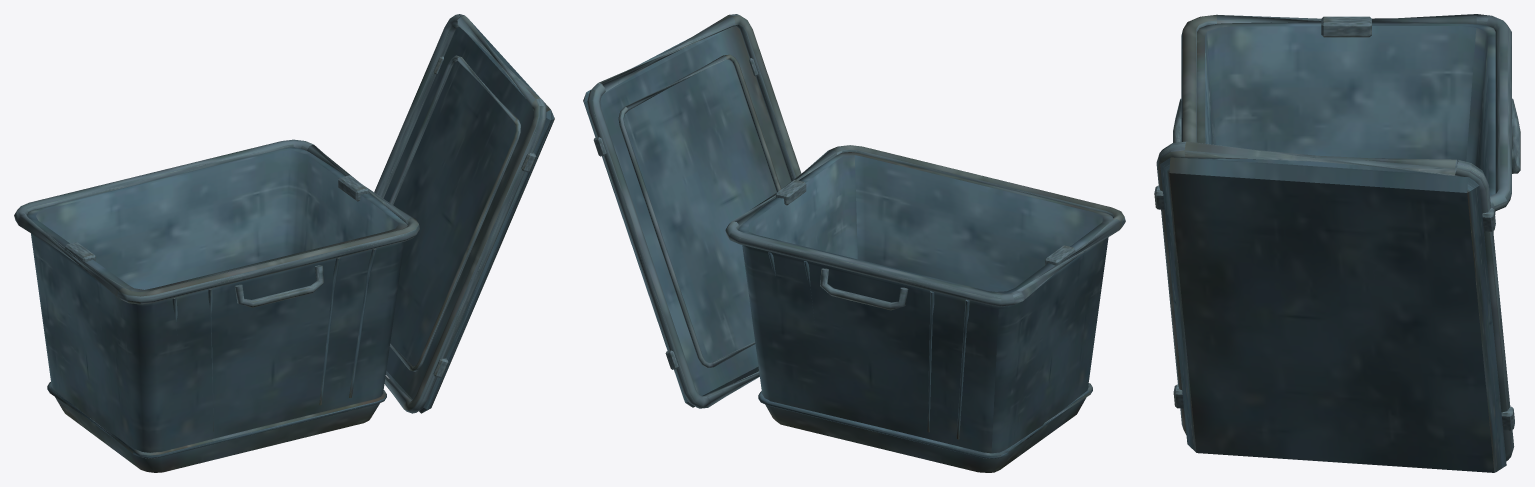
File: nb_tote.glb
3 views of the same model, side by side, from view 1: azimuth 30°, elevation 25°; view 2: azimuth 150°, elevation 25°; view 3: azimuth 270°, elevation 25° (orthographic). The views are drawn at different scales.
Parts seen in each view (by area): view 1: Abandoned_Faded_Blue_Tote_Body, Abandoned_Faded_Blue_Tote_Detached_Lid; view 2: Abandoned_Faded_Blue_Tote_Body, Abandoned_Faded_Blue_Tote_Detached_Lid; view 3: Abandoned_Faded_Blue_Tote_Detached_Lid, Abandoned_Faded_Blue_Tote_Body.
Boxes of the visible parts, <box> form: Abandoned_Faded_Blue_Tote_Body: <box>14,139,419,472</box>; Abandoned_Faded_Blue_Tote_Detached_Lid: <box>374,14,554,413</box>; Abandoned_Faded_Blue_Tote_Body: <box>725,145,1125,472</box>; Abandoned_Faded_Blue_Tote_Detached_Lid: <box>583,14,801,408</box>; Abandoned_Faded_Blue_Tote_Detached_Lid: <box>1154,141,1514,472</box>; Abandoned_Faded_Blue_Tote_Body: <box>1173,14,1520,232</box>.
Bounding box in the file's own units: 1.13 × 0.7092 × 0.6062.
Materials: 1 (1 with a texture image).
